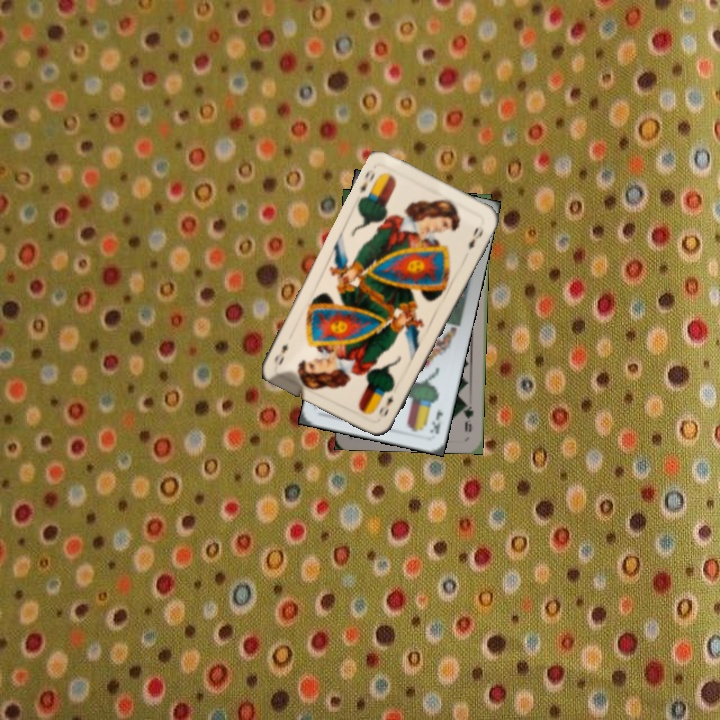EK: (425, 404, 446, 436)
EO: (374, 391, 396, 421), (356, 166, 378, 196)
G9: (460, 397, 476, 435)
